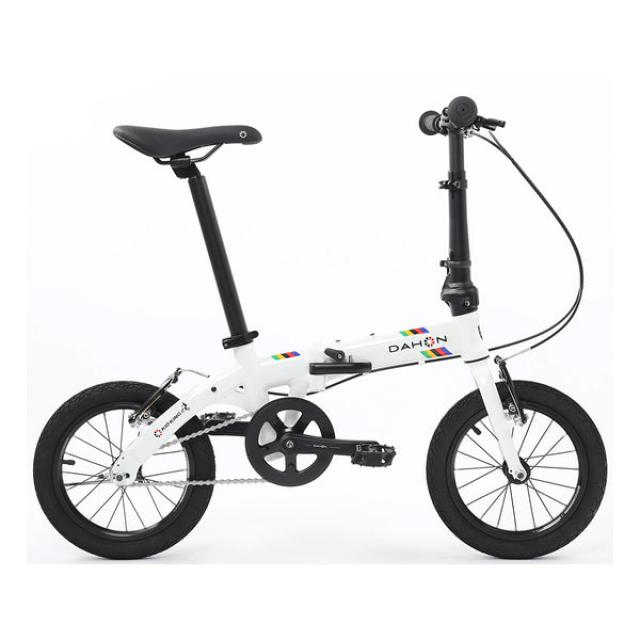folding-bike: (29, 94, 608, 560)
